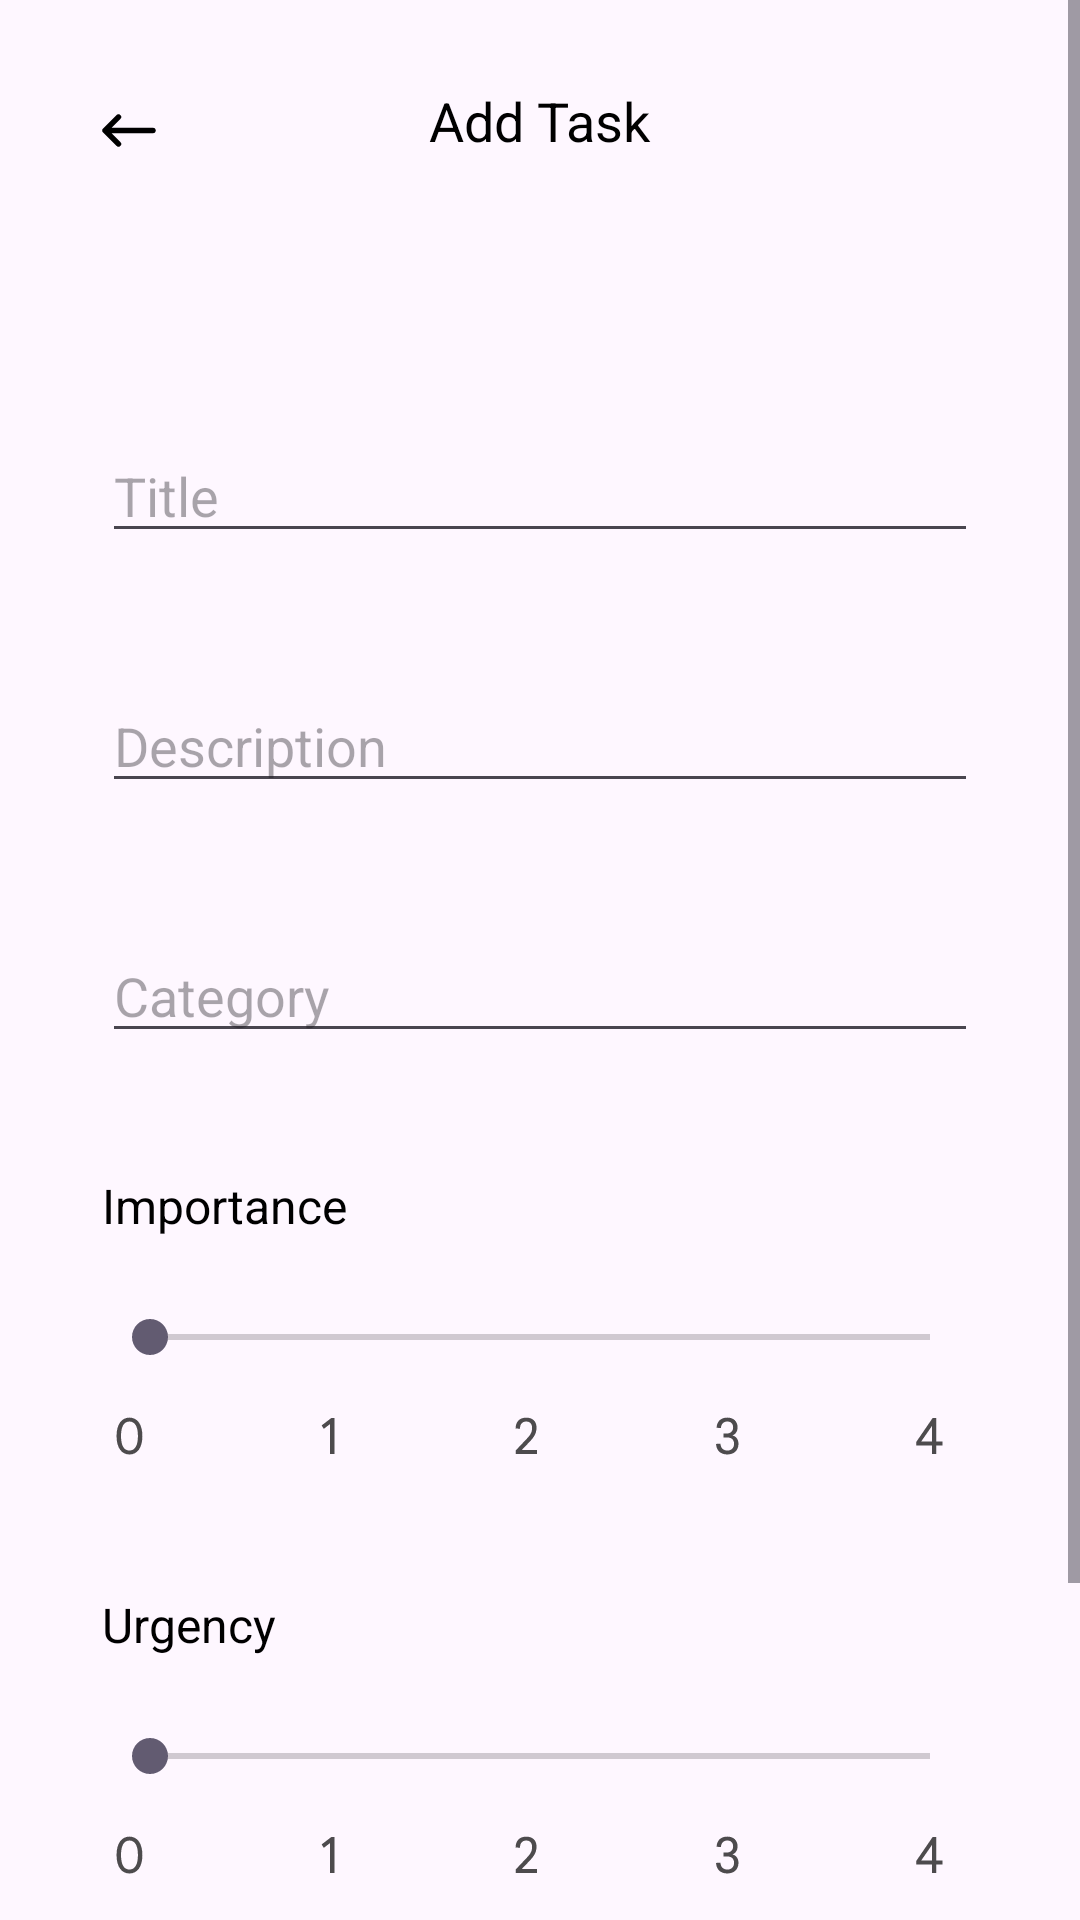

Screen size 1080*1920. Icon name, then its center in pixels as (x,y):
arrow: (129,130)
